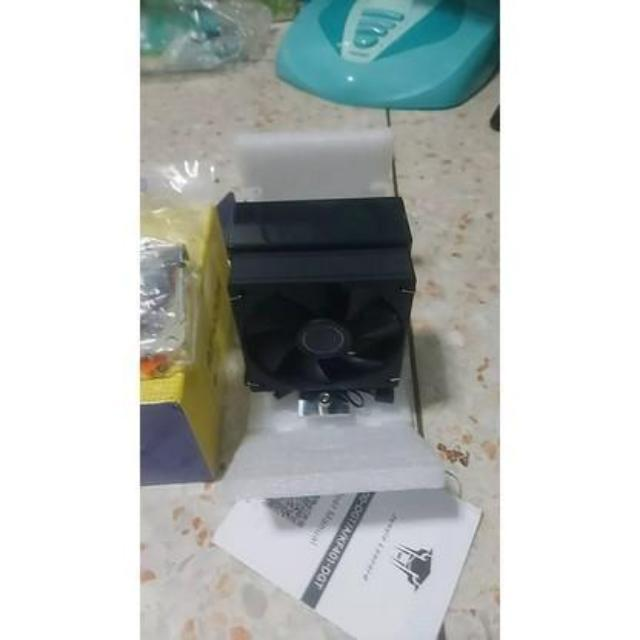CPU_Fan: (224, 197, 418, 426)
